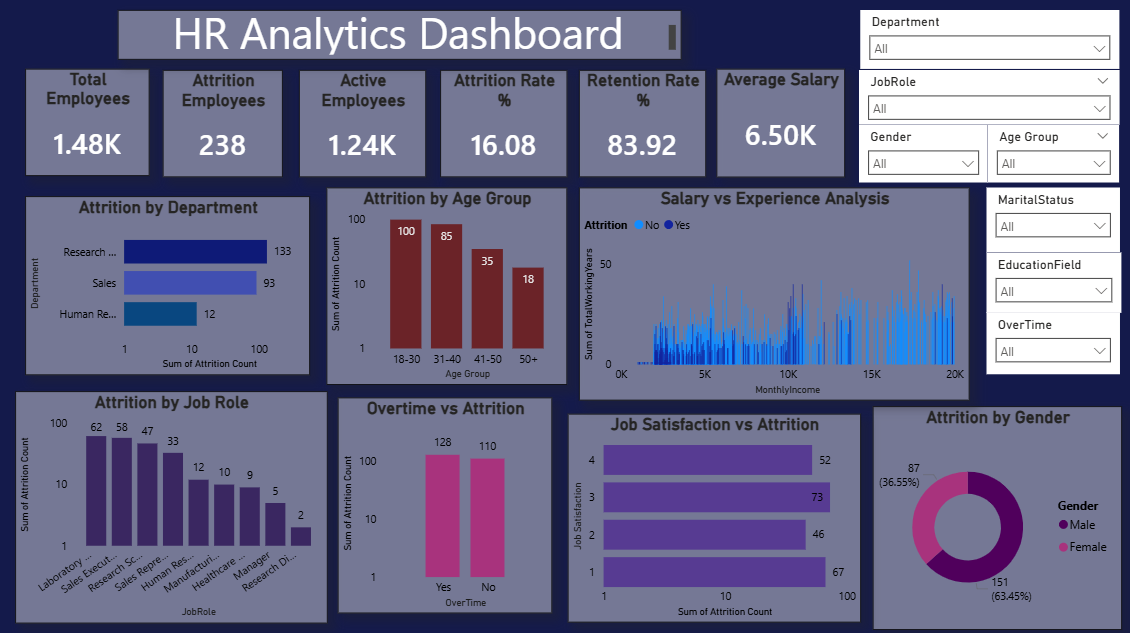

The page's visual inventory and layout, read from the dashboard file:
{"tool":"powerbi","page":{"name":"Page 1","canvas":[1280,720],"ordinal":0},"visuals":[{"type":"cardVisual","title":"Total Employees","fields":{"Data":["HR_Analytics.Total Employees"]},"box":[29,77.4,140.3,121],"z":0},{"type":"cardVisual","title":"Attrition Employees","fields":{"Data":["HR_Analytics.Attrition Employees"]},"box":[183.9,79,135.5,121],"z":1000},{"type":"cardVisual","title":"Active Employees","fields":{"Data":["HR_Analytics.Active Employees"]},"box":[338.7,79,143.5,121],"z":2000},{"type":"cardVisual","title":"Attrition Rate %","fields":{"Data":["HR_Analytics.Attrition Rate %"]},"box":[496.8,79,143.5,121],"z":3000},{"type":"cardVisual","title":"Retention Rate %","fields":{"Data":["HR_Analytics.Retention Rate %"]},"box":[653.2,79,143.5,121],"z":4000},{"type":"cardVisual","title":"Average Salary","fields":{"Data":["HR_Analytics.Average Salary"]},"box":[808.1,77.4,145.2,122.6],"z":5000},{"type":"clusteredBarChart","title":"Attrition by Department","fields":{"Category":["HR_Analytics.Department"],"Y":["Sum(HR_Analytics.Attrition Count)"]},"box":[29,221,321,201.6],"z":6000},{"type":"donutChart","title":"Attrition by Gender","fields":{"Category":["HR_Analytics.Gender"],"Y":["Sum(HR_Analytics.Attrition Count)"]},"box":[983.9,458.1,280.6,251.6],"z":7000},{"type":"clusteredColumnChart","title":"Attrition by Job Role","fields":{"Category":["HR_Analytics.JobRole"],"Y":["Sum(HR_Analytics.Attrition Count)"]},"box":[17.7,440.3,351.6,261.3],"z":8000},{"type":"clusteredColumnChart","title":"Attrition by Age Group","fields":{"Y":["Sum(HR_Analytics.Attrition Count)"],"Category":["HR_Analytics.Age Group"]},"box":[369.4,211.3,271,222.6],"z":9000},{"type":"clusteredColumnChart","title":"Overtime vs Attrition","fields":{"Category":["HR_Analytics.OverTime"],"Y":["Sum(HR_Analytics.Attrition Count)"]},"box":[382.3,448.4,241.9,243.5],"z":10000},{"type":"slicer","fields":{"Values":["HR_Analytics.Department"]},"box":[971,11.3,291.9,66.1],"z":11000},{"type":"slicer","fields":{"Values":["HR_Analytics.JobRole"]},"box":[969.4,79,293.5,61.3],"z":12000},{"type":"slicer","fields":{"Values":["HR_Analytics.Gender"]},"box":[969.4,140.3,145.2,64.5],"z":13000},{"type":"slicer","fields":{"Values":["HR_Analytics.Age Group"]},"box":[1114.5,140.3,148.4,64.5],"z":14000},{"type":"clusteredBarChart","title":"Job Satisfaction vs Attrition","fields":{"Category":["HR_Analytics.JobSatisfaction"],"Y":["Sum(HR_Analytics.Attrition Count)"]},"box":[640.3,466.1,330.6,235.5],"z":15000},{"type":"clusteredColumnChart","title":"Salary vs Experience Analysis","fields":{"Y":["Sum(HR_Analytics.TotalWorkingYears)"],"Category":["HR_Analytics.MonthlyIncome"],"Series":["HR_Analytics.Attrition"]},"box":[653.2,211.3,440.3,240.3],"z":16000},{"type":"slicer","fields":{"Values":["HR_Analytics.MaritalStatus"]},"box":[1112.9,211.3,150,72.6],"z":17000},{"type":"slicer","fields":{"Values":["HR_Analytics.EducationField"]},"box":[1112.9,283.9,151.6,67.7],"z":18000},{"type":"slicer","fields":{"Values":["HR_Analytics.OverTime"]},"box":[1112.9,351.6,150,69.4],"z":19000},{"type":"textbox","box":[133.8,11.3,635.2,56.3],"z":20000}]}

Visuals, with their boxes in screenshot pixels (x1, y1, x2, y2), scaled from the page's 1280x720 canvas onto the 1130x633 screenshot:
"Total Employees" cardVisual: box(26, 68, 149, 174)
"Attrition Employees" cardVisual: box(162, 69, 282, 176)
"Active Employees" cardVisual: box(299, 69, 426, 176)
"Attrition Rate %" cardVisual: box(439, 69, 565, 176)
"Retention Rate %" cardVisual: box(577, 69, 703, 176)
"Average Salary" cardVisual: box(713, 68, 842, 176)
"Attrition by Department" clusteredBarChart: box(26, 194, 309, 372)
"Attrition by Gender" donutChart: box(869, 403, 1116, 624)
"Attrition by Job Role" clusteredColumnChart: box(16, 387, 326, 617)
"Attrition by Age Group" clusteredColumnChart: box(326, 186, 565, 381)
"Overtime vs Attrition" clusteredColumnChart: box(337, 394, 551, 608)
slicer - HR_Analytics.Department: box(857, 10, 1115, 68)
slicer - HR_Analytics.JobRole: box(856, 69, 1115, 123)
slicer - HR_Analytics.Gender: box(856, 123, 984, 180)
slicer - HR_Analytics.Age Group: box(984, 123, 1115, 180)
"Job Satisfaction vs Attrition" clusteredBarChart: box(565, 410, 857, 617)
"Salary vs Experience Analysis" clusteredColumnChart: box(577, 186, 965, 397)
slicer - HR_Analytics.MaritalStatus: box(982, 186, 1115, 250)
slicer - HR_Analytics.EducationField: box(982, 250, 1116, 309)
slicer - HR_Analytics.OverTime: box(982, 309, 1115, 370)
textbox: box(118, 10, 679, 59)
